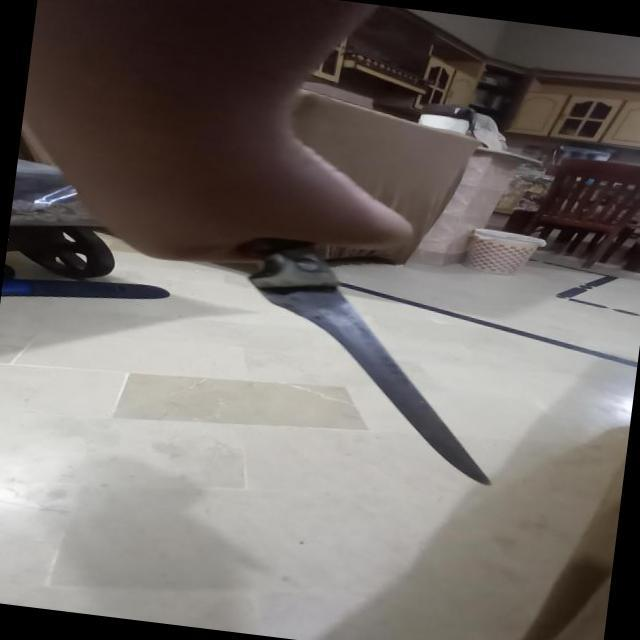Knife: (206, 225, 535, 496)
